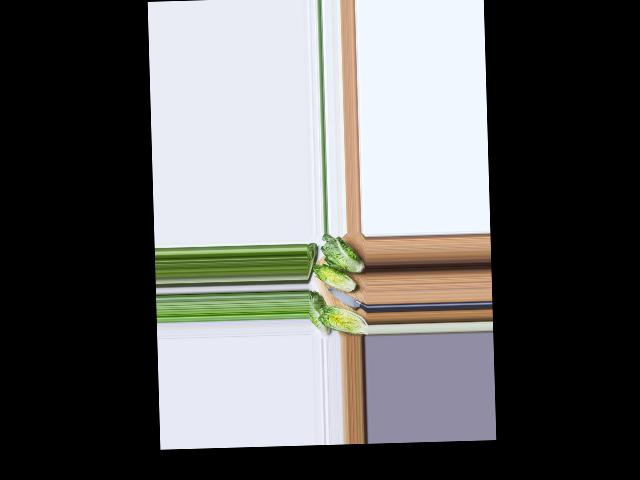lettuce: (310, 291, 330, 334)
